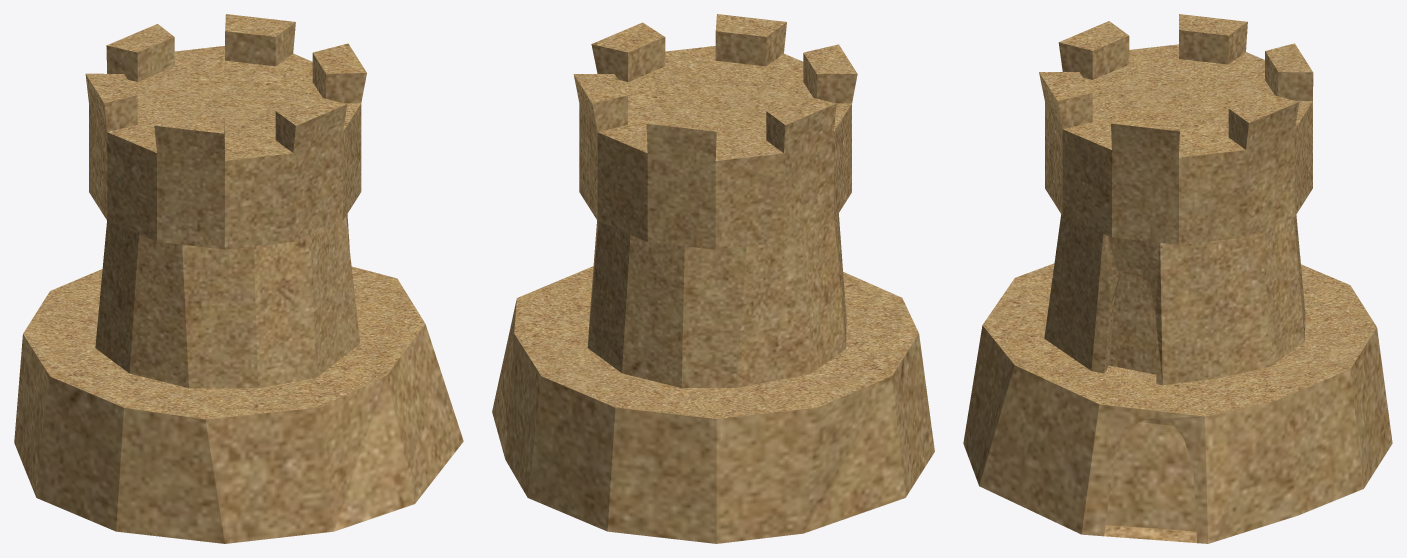
File: YW_SandCastle.FBX
The picture shows the model from 3 angles, left to right: view 1: azimuth 30°, elevation 25°; view 2: azimuth 150°, elevation 25°; view 3: azimuth 270°, elevation 25°; orthographic projection.
Parts seen in each view (by area): view 1: Cylinder002; view 2: Cylinder002; view 3: Cylinder002.
Boxes of the visible parts, x1,y1,x2,y2 form: Cylinder002: (14,14,463,543); Cylinder002: (492,14,934,543); Cylinder002: (963,14,1392,543).
Bounding box in the file's own units: 172 × 156 × 163.
